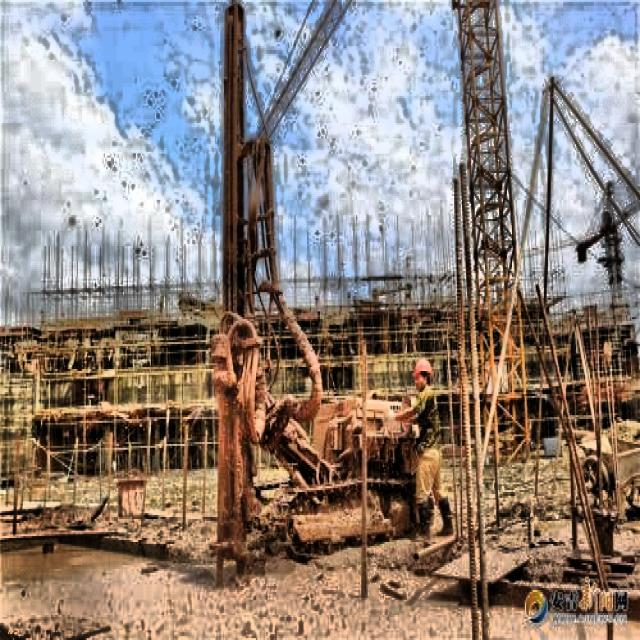helmet: (411, 356, 439, 392)
